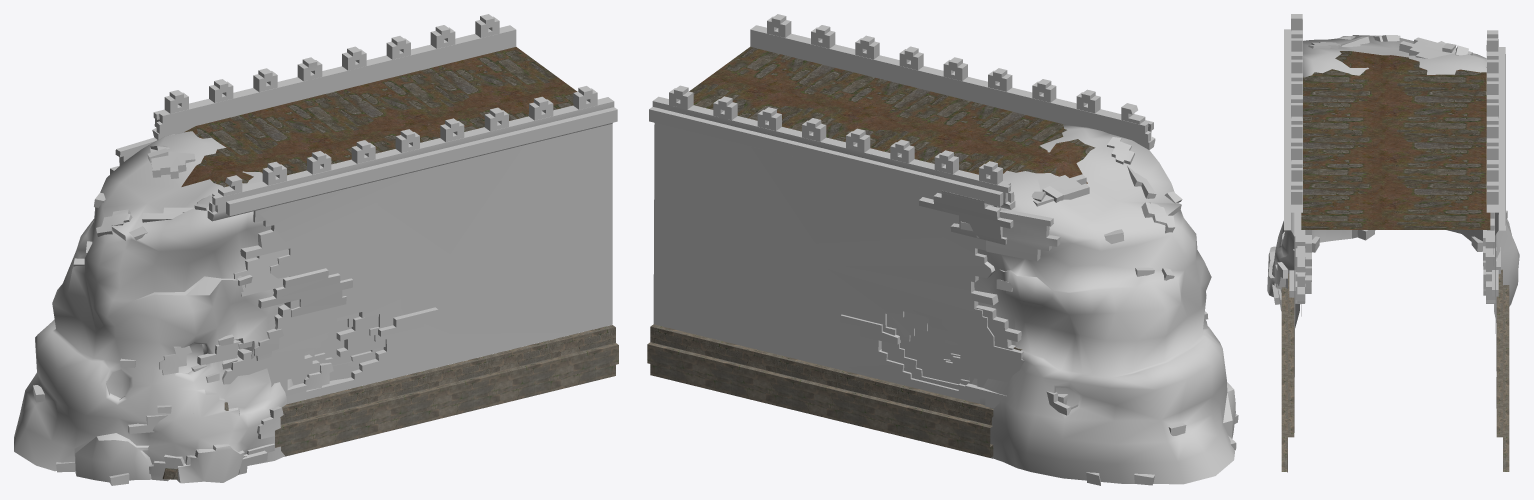
The model's file is Danzhou_building_chengqiang_01_05.FBX.
The picture shows the model from 3 angles, left to right: view 1: azimuth 30°, elevation 25°; view 2: azimuth 150°, elevation 25°; view 3: azimuth 270°, elevation 25°; orthographic projection.
Visible parts, largest first — view 1: Danzhou_building_chengqiang_01_05; view 2: Danzhou_building_chengqiang_01_05; view 3: Danzhou_building_chengqiang_01_05.
Boxes of the visible parts, x1,y1,x2,y2 form: Danzhou_building_chengqiang_01_05: (14, 14, 618, 485); Danzhou_building_chengqiang_01_05: (647, 14, 1238, 485); Danzhou_building_chengqiang_01_05: (1267, 14, 1519, 472).
Size of the model in its own units: 2798 by 1154 by 1467.
